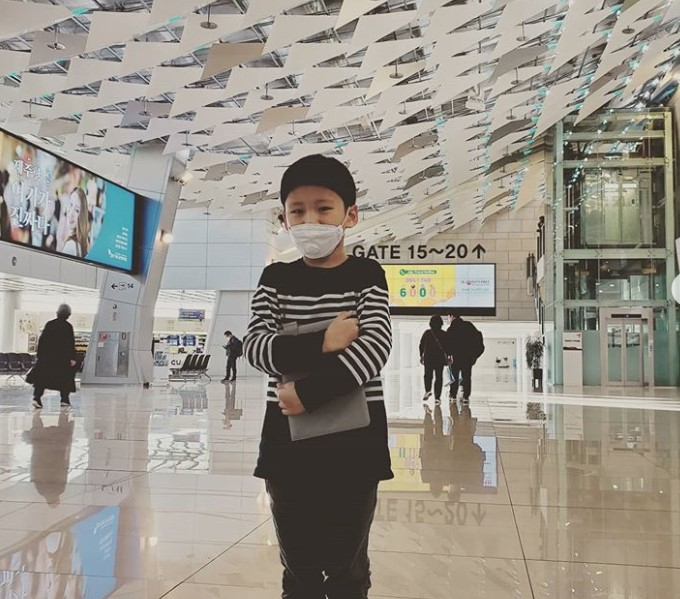face_with_mask: (276, 154, 359, 263)
